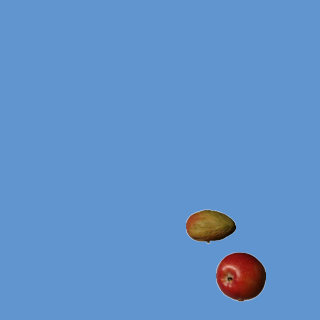Apple Braeburn: (215, 251, 265, 301)
Papaya: (185, 201, 235, 251)
